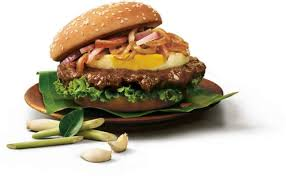rendang: (38, 4, 223, 123)
